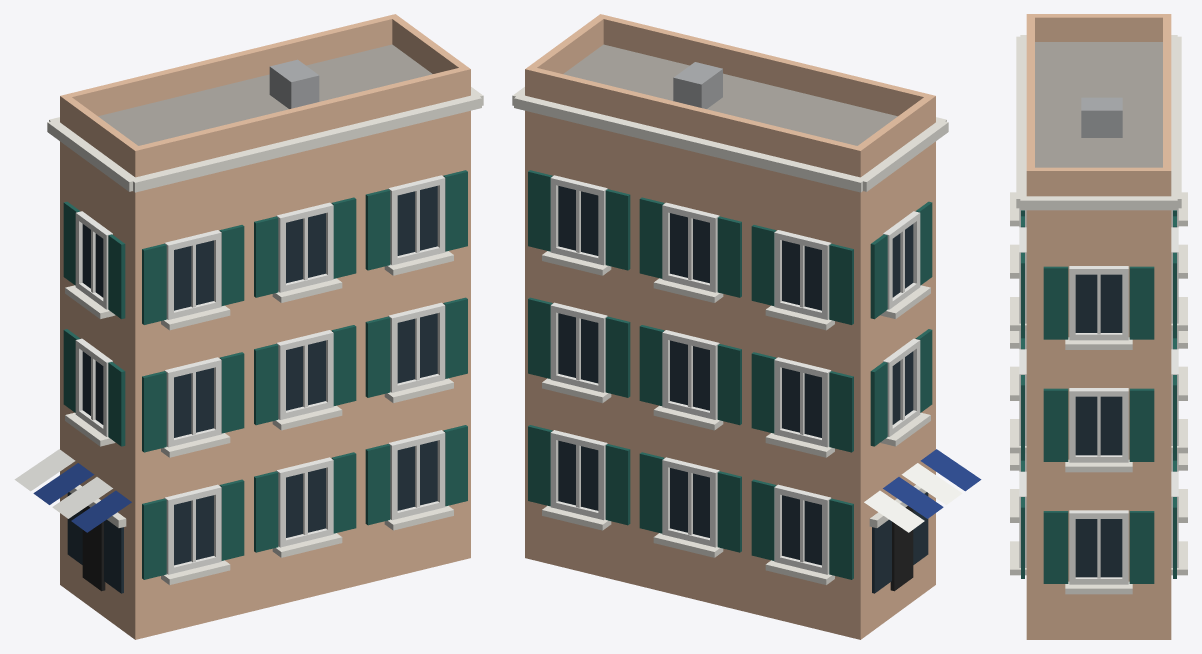
3 renders of one model, left to right at view 1: azimuth 30°, elevation 25°; view 2: azimuth 150°, elevation 25°; view 3: azimuth 270°, elevation 25°, orthographic. The views are drawn at different scales.
Visible parts, largest first — view 1: b11274; view 2: b11274; view 3: b11274.
Part boxes in pixels (<box>): b11274: <box>14,14,483,639</box>; b11274: <box>512,14,981,639</box>; b11274: <box>1010,14,1187,639</box>.
Size of the model in its own units: 4244 by 5019 by 1714.
